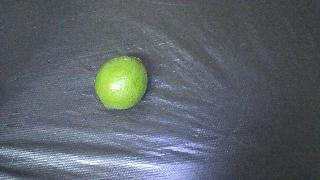LOCAL: (95, 56, 148, 109)
